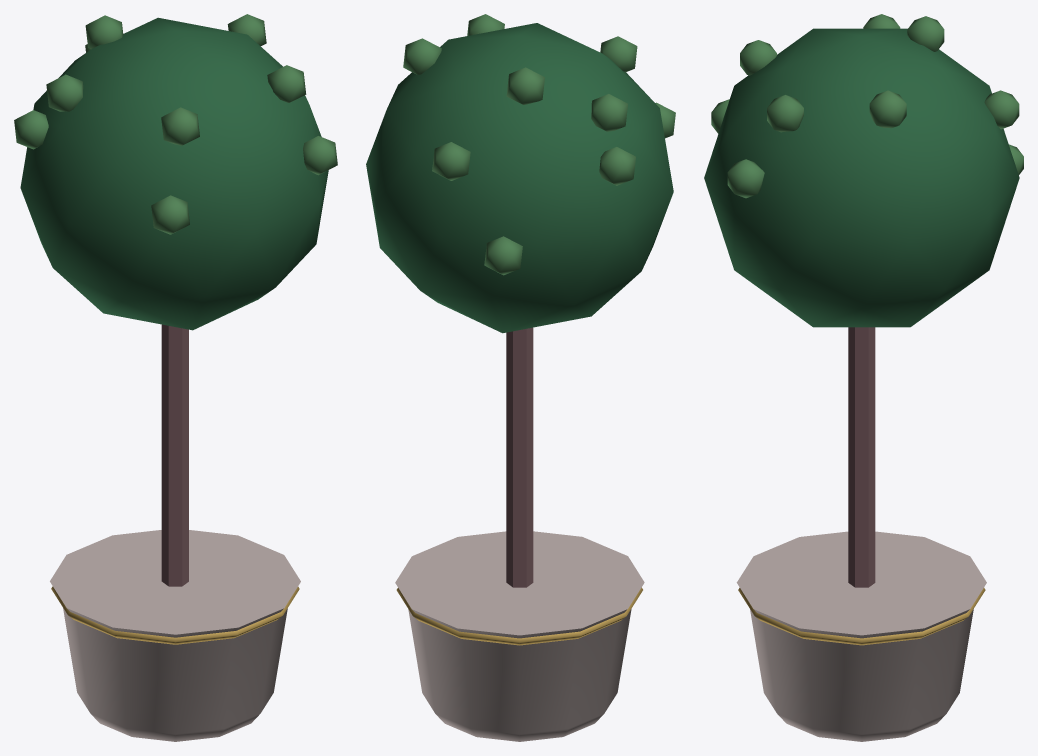
The model's file is topiary_lollipop.glb.
The picture shows the model from 3 angles, left to right: view 1: azimuth 30°, elevation 25°; view 2: azimuth 150°, elevation 25°; view 3: azimuth 270°, elevation 25°; orthographic projection.
Parts seen in each view (by area): view 1: topiary_lollipop; view 2: topiary_lollipop; view 3: topiary_lollipop.
Part boxes in pixels (x1,y1,x2,y2): topiary_lollipop: (14, 14, 337, 741); topiary_lollipop: (366, 14, 675, 741); topiary_lollipop: (704, 14, 1023, 741).
Size of what is drawn, in the model's own units: 1.13 by 2.73 by 1.18.
